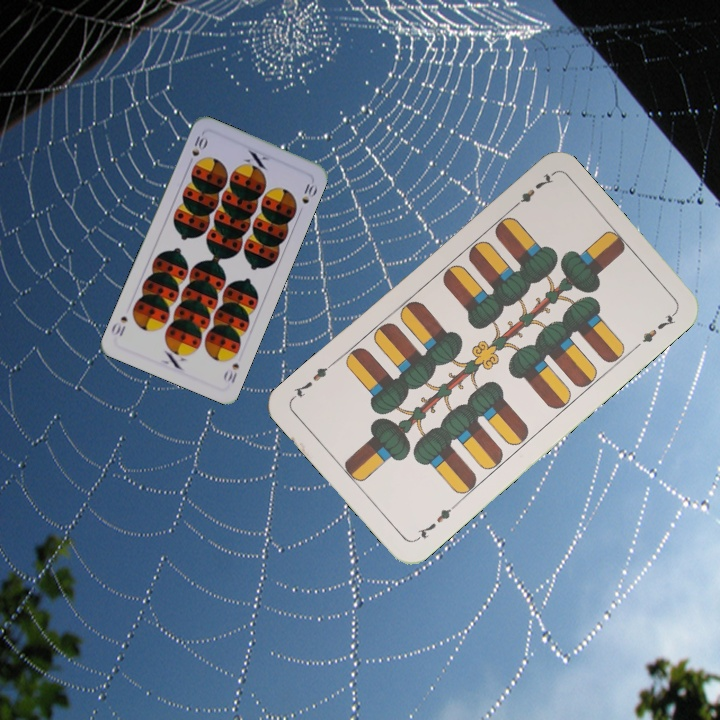E7: (411, 499, 459, 544), (507, 169, 556, 213)
S10: (184, 130, 210, 168), (219, 359, 242, 386)
